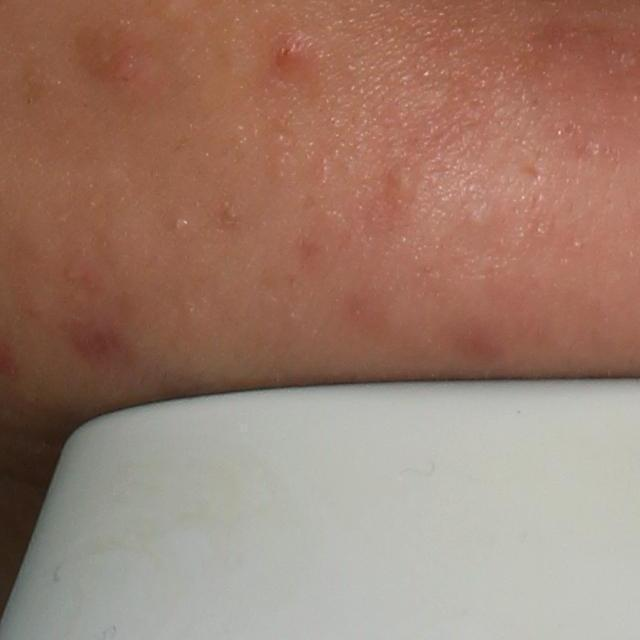comedo: (462, 208, 487, 232)
papule: (93, 47, 148, 88), (265, 33, 308, 78)
